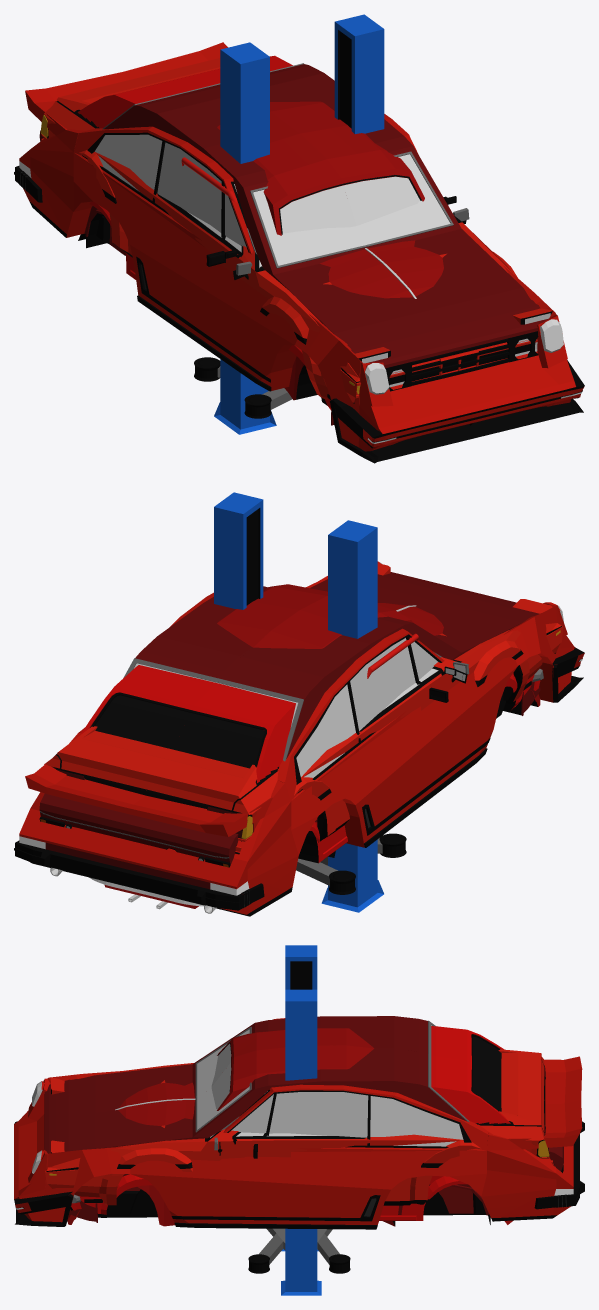
The model's file is LowPolyCars.glb.
3 renders of one model, top to bottom at view 1: azimuth 30°, elevation 25°; view 2: azimuth 150°, elevation 25°; view 3: azimuth 270°, elevation 25°, orthographic. The views are drawn at different scales.
Visible parts, largest first — view 1: Porsche911, Cube003, Cube002, Cube005, Circle003, Cube009, Cube; view 2: Porsche911, Cube003, Cube005, Cube, Circle003, Cube002, Cube009; view 3: Porsche911, Cube003, Cube005, Cube002, Cube, Cube009, Circle003, Cube001.
Part boxes in pixels (x1,y1,x2,y2): Porsche911: (14, 42, 584, 463); Cube003: (39, 63, 548, 425); Cube002: (78, 101, 443, 400); Cube005: (40, 58, 552, 403); Circle003: (214, 42, 276, 434); Cube009: (194, 14, 384, 418); Cube: (77, 55, 447, 410); Porsche911: (14, 561, 584, 916); Cube003: (39, 572, 543, 867); Cube005: (41, 563, 562, 854); Cube: (80, 665, 540, 863); Circle003: (320, 520, 383, 912); Cube002: (89, 584, 540, 909); Cube009: (214, 492, 406, 894); Porsche911: (14, 1018, 584, 1229); Cube003: (44, 1016, 563, 1224); Cube005: (45, 1049, 554, 1205); Cube002: (67, 1028, 512, 1226); Cube: (70, 1026, 511, 1220); Cube009: (266, 989, 332, 1295); Circle003: (248, 945, 350, 1273); Cube001: (107, 1031, 485, 1214).
Size of what is drawn, in the model's own units: 2.12e+07 by 3.1e+07 by 5.49e+07.
